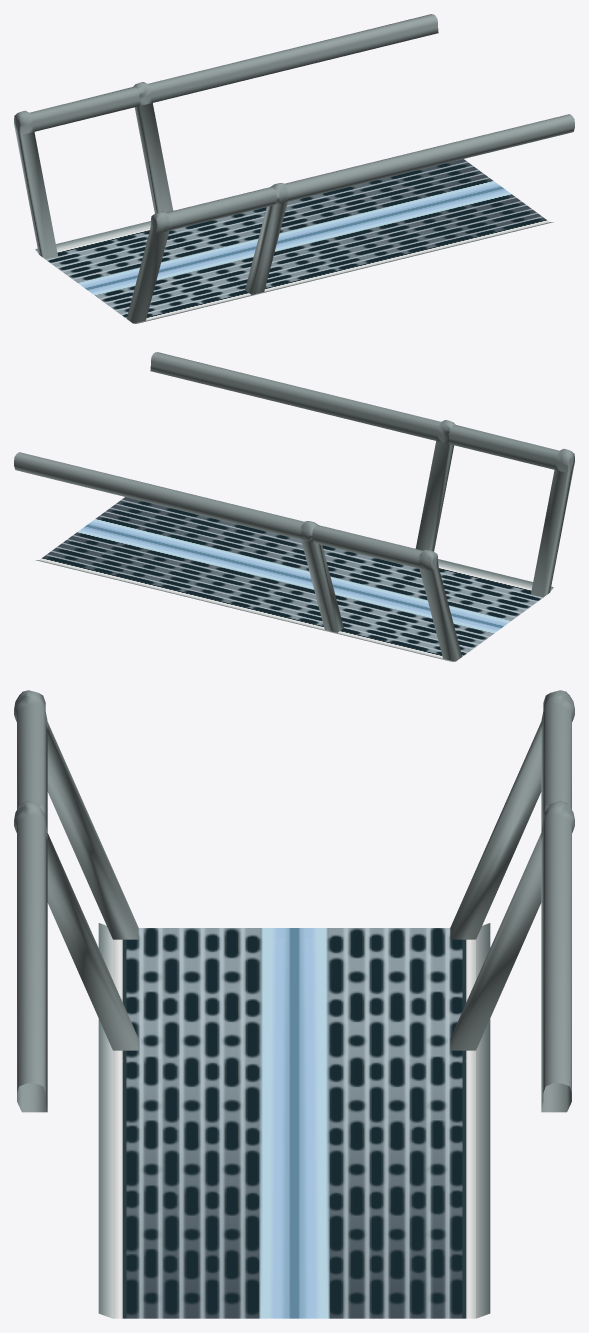
File: SektorBridge.fbx
3 renders of one model, top to bottom at view 1: azimuth 30°, elevation 25°; view 2: azimuth 150°, elevation 25°; view 3: azimuth 270°, elevation 25°, orthographic. The views are drawn at different scales.
Visible parts, largest first — view 1: Part1, Part2; view 2: Part1, Part2; view 3: Part1, Part2.
Part boxes in pixels (x1,y1,x2,y2): Part1: [35, 159, 553, 323]; Part2: [14, 14, 574, 323]; Part1: [35, 497, 553, 661]; Part2: [14, 352, 574, 661]; Part1: [98, 923, 490, 1318]; Part2: [14, 690, 574, 1112].
Bounding box in the file's own units: 81.21 × 23.38 × 49.27.
